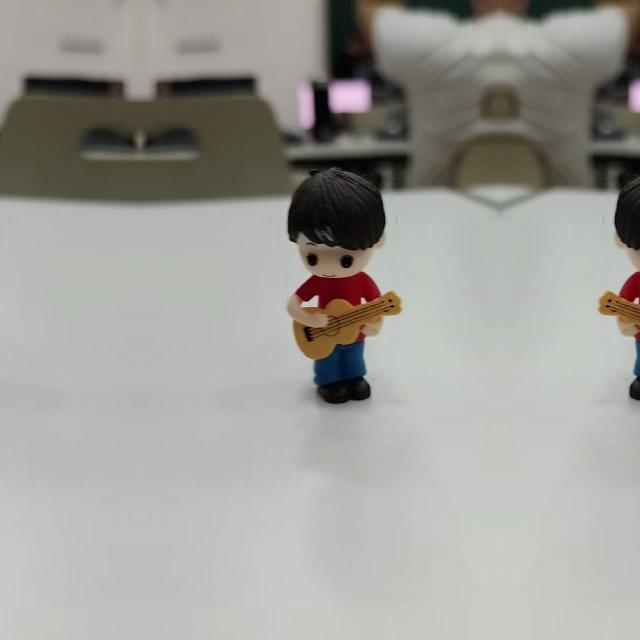man cloth: (294, 274, 384, 310), (616, 273, 640, 310)
man head: (284, 160, 388, 282), (612, 160, 640, 281)
trousers: (316, 332, 372, 398), (627, 332, 640, 397)
